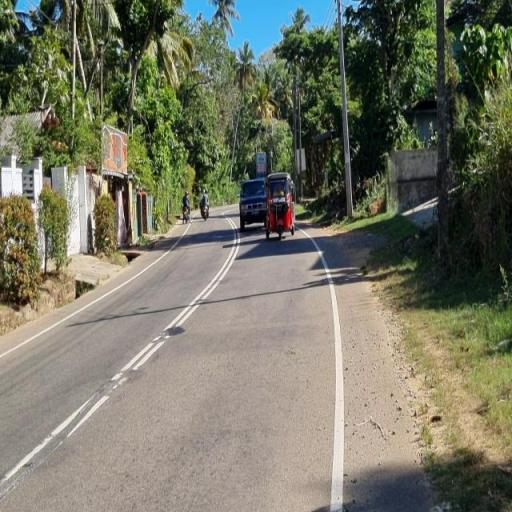double_white_line: (109, 226, 238, 388)
